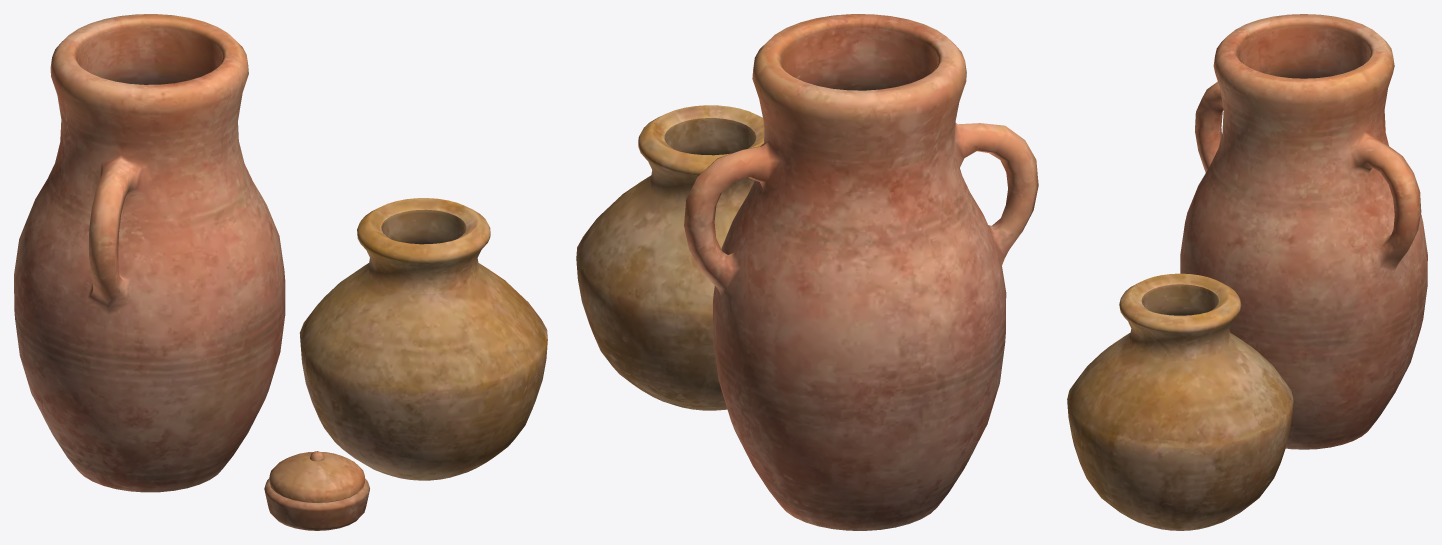
3 renders of one model, left to right at view 1: azimuth 30°, elevation 25°; view 2: azimuth 150°, elevation 25°; view 3: azimuth 270°, elevation 25°, orthographic. The views are drawn at different scales.
Visible parts, largest first — view 1: SM_Moon_Garou_Vases_Set_01v1_LOD0; view 2: SM_Moon_Garou_Vases_Set_01v1_LOD0; view 3: SM_Moon_Garou_Vases_Set_01v1_LOD0.
Part boxes in pixels (x1,y1,x2,y2): SM_Moon_Garou_Vases_Set_01v1_LOD0: (14,14,547,530); SM_Moon_Garou_Vases_Set_01v1_LOD0: (576,14,1038,530); SM_Moon_Garou_Vases_Set_01v1_LOD0: (1067,14,1427,530).
Bounding box in the file's own units: 1.33 × 1.21 × 1.06.
Materials: 1 (1 with a texture image).
